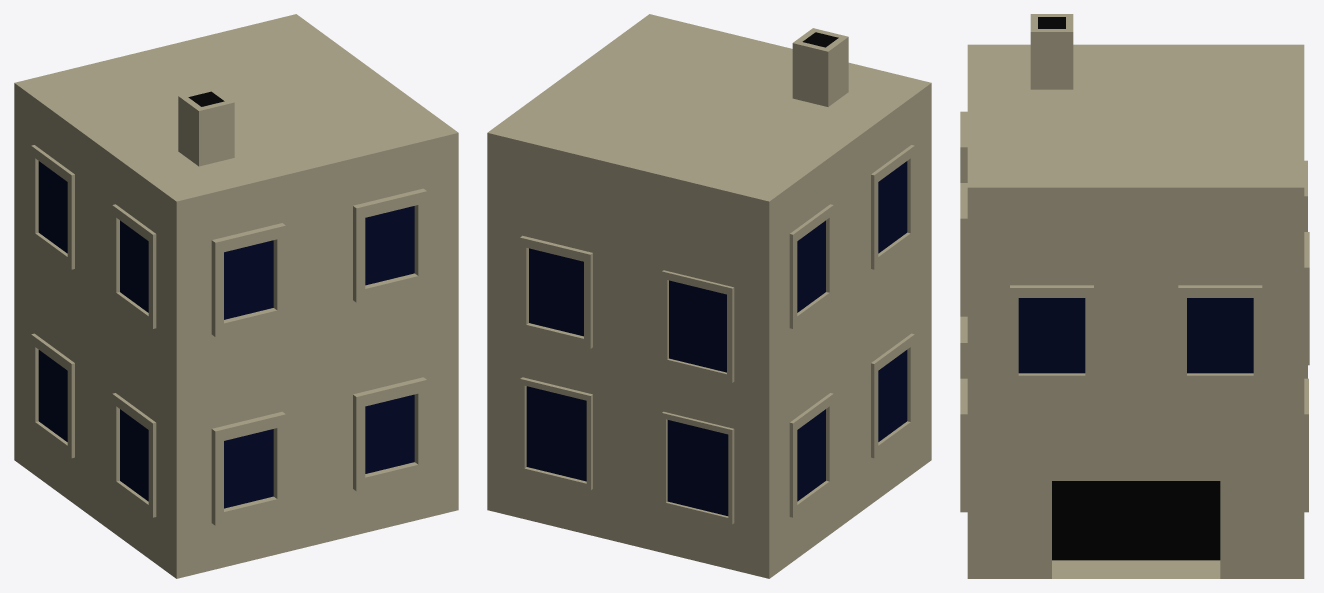
Rendered from Predio1.fbx.
The picture shows the model from 3 angles, left to right: view 1: azimuth 30°, elevation 25°; view 2: azimuth 150°, elevation 25°; view 3: azimuth 270°, elevation 25°; orthographic projection. The views are drawn at different scales.
Visible parts, largest first — view 1: Cube; view 2: Cube; view 3: Cube.
Boxes of the visible parts, x1,y1,x2,y2 form: Cube: [14, 14, 458, 578]; Cube: [487, 14, 931, 578]; Cube: [960, 14, 1309, 578].
Size of the model in its own units: 352 by 500 by 353.
